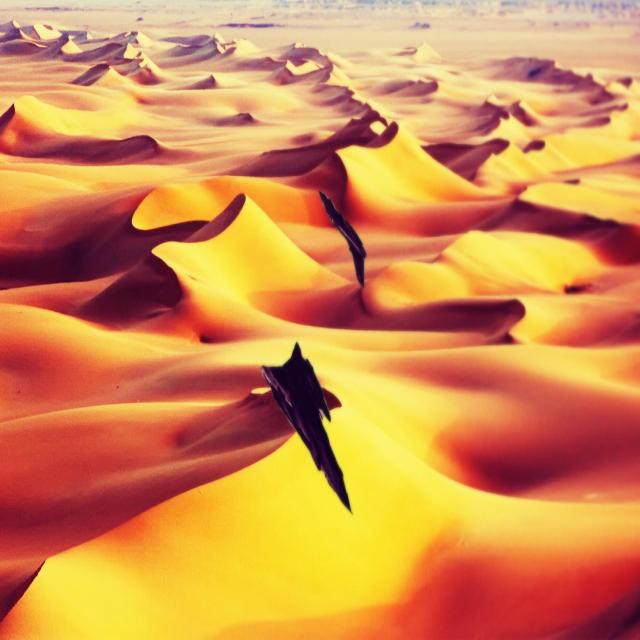airplane: (258, 340, 354, 516), (316, 186, 366, 286)
